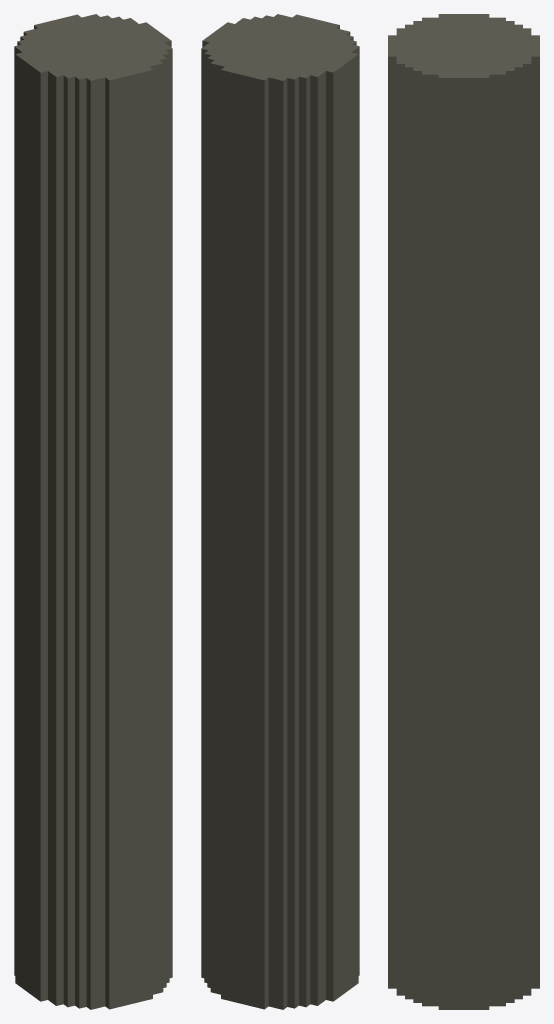
The model's file is factory4.4-16.obj.
3 views of the same model, side by side, from view 1: azimuth 30°, elevation 25°; view 2: azimuth 150°, elevation 25°; view 3: azimuth 270°, elevation 25° (orthographic).
Size of the model in its own units: 1.8 by 12.2 by 1.8.
1 material, 1 textured.
